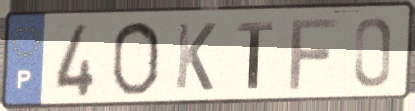0: (351, 14, 394, 90)
4: (52, 20, 99, 100)
F: (286, 16, 341, 93)
K: (172, 20, 219, 93)
O: (108, 19, 163, 98)
T: (234, 19, 276, 91)
